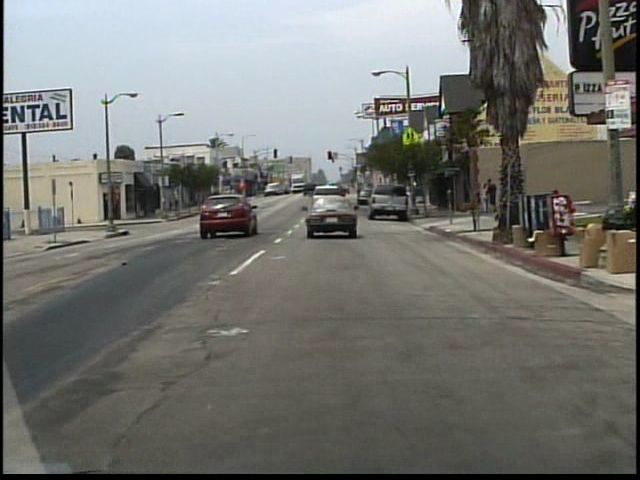person: (487, 179, 498, 215), (480, 183, 488, 214)
